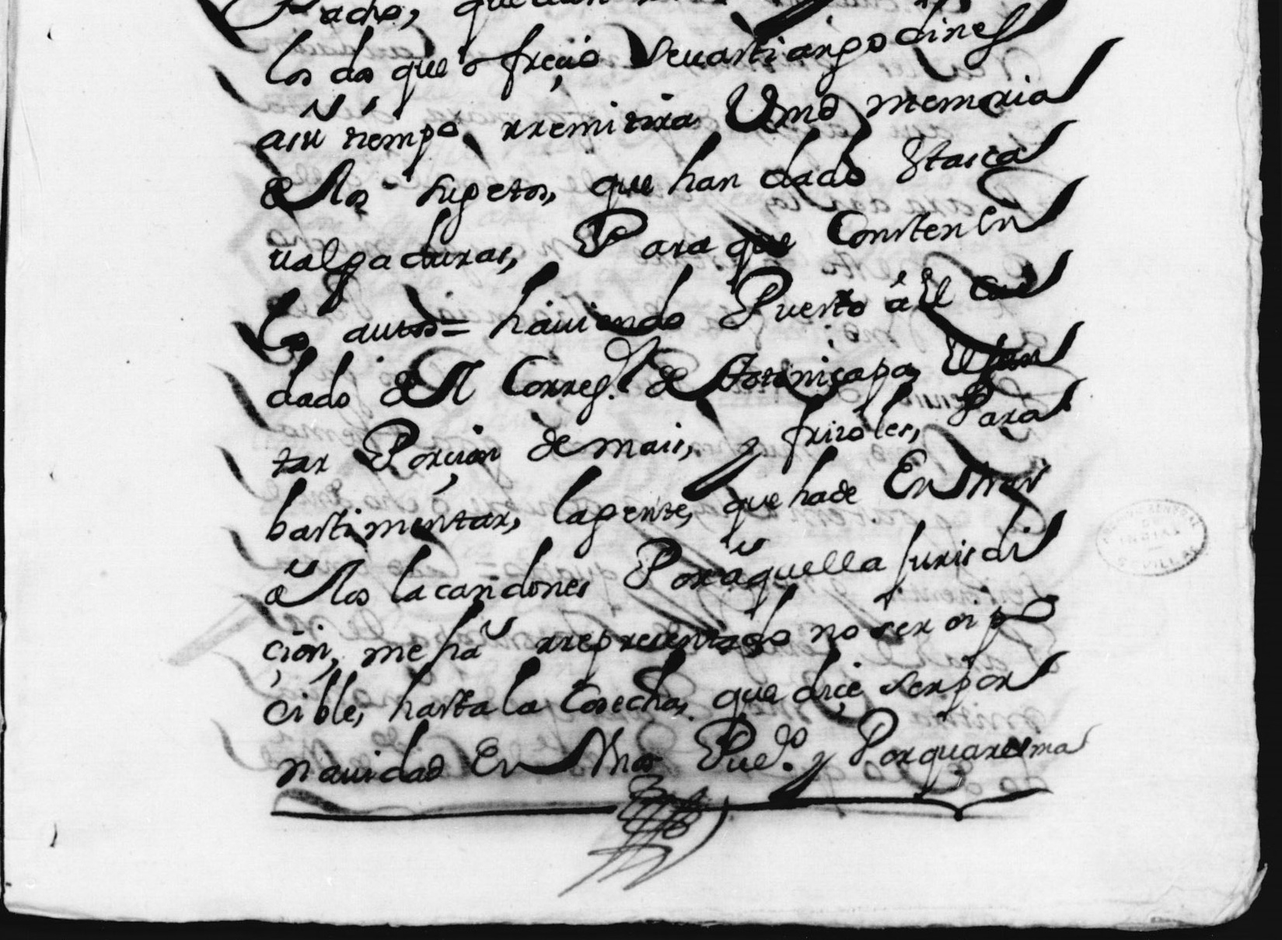lacandon: (390, 536, 591, 603)
